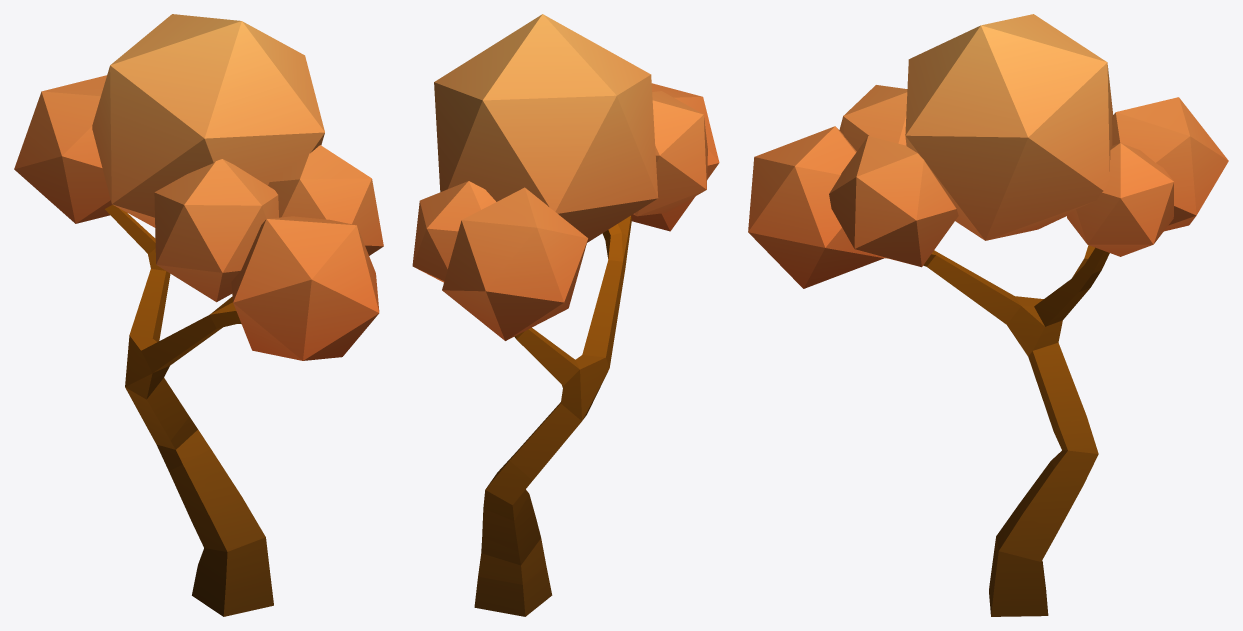
File: tree1.glb
3 renders of one model, left to right at view 1: azimuth 30°, elevation 25°; view 2: azimuth 150°, elevation 25°; view 3: azimuth 270°, elevation 25°, orthographic. The views are drawn at different scales.
Parts seen in each view (by area): view 1: Cube; view 2: Cube; view 3: Cube.
Part boxes in pixels (x1,y1,x2,y2): Cube: (14, 14, 383, 616); Cube: (412, 14, 719, 616); Cube: (748, 14, 1228, 616).
Size of the model in its own units: 3.85 by 10.06 by 7.64.
1 material, 1 textured.
